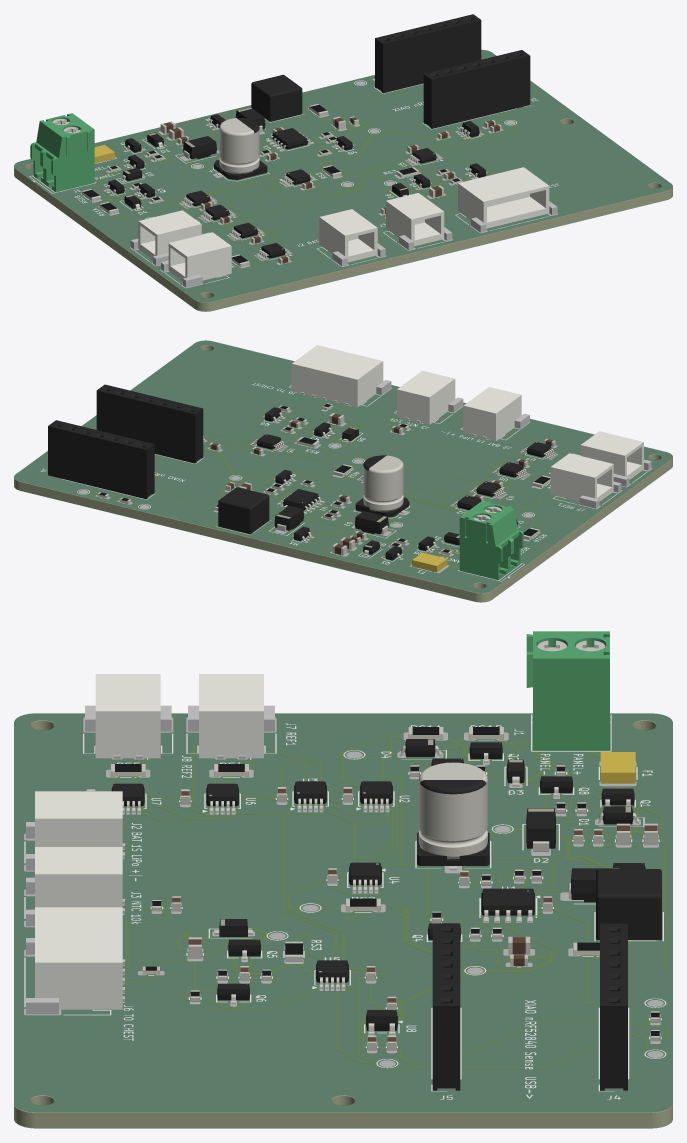
File: pmbh.glb
The picture shows the model from 3 angles, top to bottom: view 1: azimuth 30°, elevation 25°; view 2: azimuth 150°, elevation 25°; view 3: azimuth 270°, elevation 25°; orthographic projection. The views are drawn at different scales.
Visible parts, largest first — view 1: =>[0:1:1:63], =>[0:1:1:65], =>[0:1:1:40] (×2), =>0:1:1:14 (×4), =>0:1:1:31, =>[0:1:1:52], =>[0:1:1:42], =>[0:1:1:59], =>[0:1:1:61], =>[0:1:1:44], =>[0:1:1:58], =>[0:1:1:20] (+2 smaller); view 2: =>[0:1:1:63], =>[0:1:1:65], =>[0:1:1:40] (×2), =>0:1:1:14 (×4), =>0:1:1:31, =>[0:1:1:52], =>[0:1:1:42], =>[0:1:1:61], =>[0:1:1:59], =>[0:1:1:44], =>[0:1:1:58], =>[0:1:1:20] (×2) (+3 smaller); view 3: =>[0:1:1:63], =>[0:1:1:65], =>0:1:1:14 (×4), =>[0:1:1:52], =>[0:1:1:40] (×2), =>0:1:1:31, =>[0:1:1:58], =>[0:1:1:42], =>[0:1:1:61], =>[0:1:1:59], =>[0:1:1:11] (×5), =>[0:1:1:44] (+3 smaller).
Boxes of the visible parts, x1,y1,x2,y2 form: =>[0:1:1:63]: (14,49,672,302); =>[0:1:1:65]: (14,50,672,311); =>[0:1:1:40] (×2): (375,14,530,128); =>0:1:1:14 (×4): (138,193,444,280); =>0:1:1:31: (458,167,549,228); =>[0:1:1:52]: (30,113,94,191); =>[0:1:1:42]: (214,118,267,179); =>[0:1:1:59]: (81,78,558,288); =>[0:1:1:61]: (29,80,558,284); =>[0:1:1:44]: (251,74,302,121); =>[0:1:1:58]: (86,80,517,264); =>[0:1:1:20]: (183,136,216,159); =>[0:1:1:63]: (14,340,672,593); =>[0:1:1:65]: (14,341,672,602); =>[0:1:1:40] (×2): (48,384,203,499); =>0:1:1:14 (×4): (397,370,643,501); =>0:1:1:31: (291,345,383,407); =>[0:1:1:52]: (459,500,523,579); =>[0:1:1:42]: (355,455,409,517); =>[0:1:1:61]: (40,383,646,581); =>[0:1:1:59]: (79,388,652,573); =>[0:1:1:44]: (218,487,269,534); =>[0:1:1:58]: (90,400,565,568); =>[0:1:1:20] (×2): (274,505,388,534); =>[0:1:1:63]: (14,713,672,1112); =>[0:1:1:65]: (14,714,672,1127); =>0:1:1:14 (×4): (35,674,263,907); =>[0:1:1:52]: (526,631,609,750); =>[0:1:1:40] (×2): (432,923,627,1090); =>0:1:1:31: (35,907,122,1009); =>[0:1:1:58]: (111,734,668,1068); =>[0:1:1:42]: (417,762,489,870); =>[0:1:1:61]: (24,714,666,1099); =>[0:1:1:59]: (24,717,663,1088); =>[0:1:1:11] (×5): (206,781,392,988); =>[0:1:1:44]: (596,869,661,940).
Bounding box in the file's own units: 0.086 × 0.0137 × 0.06.
